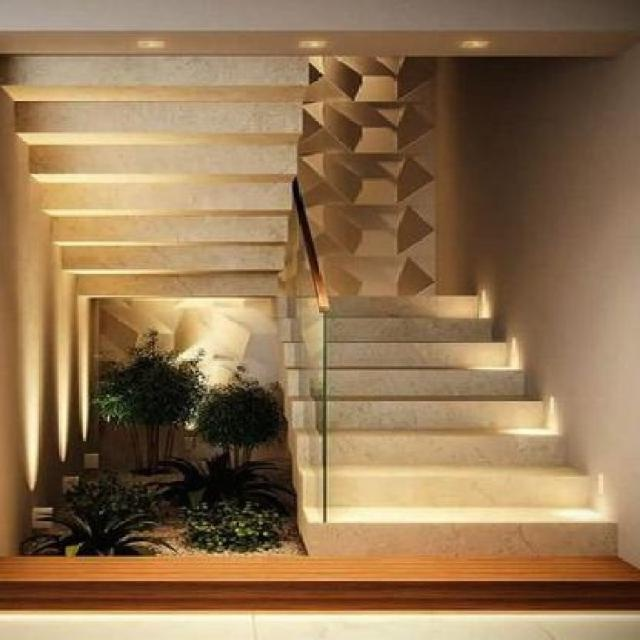stair: (293, 216, 627, 567)
